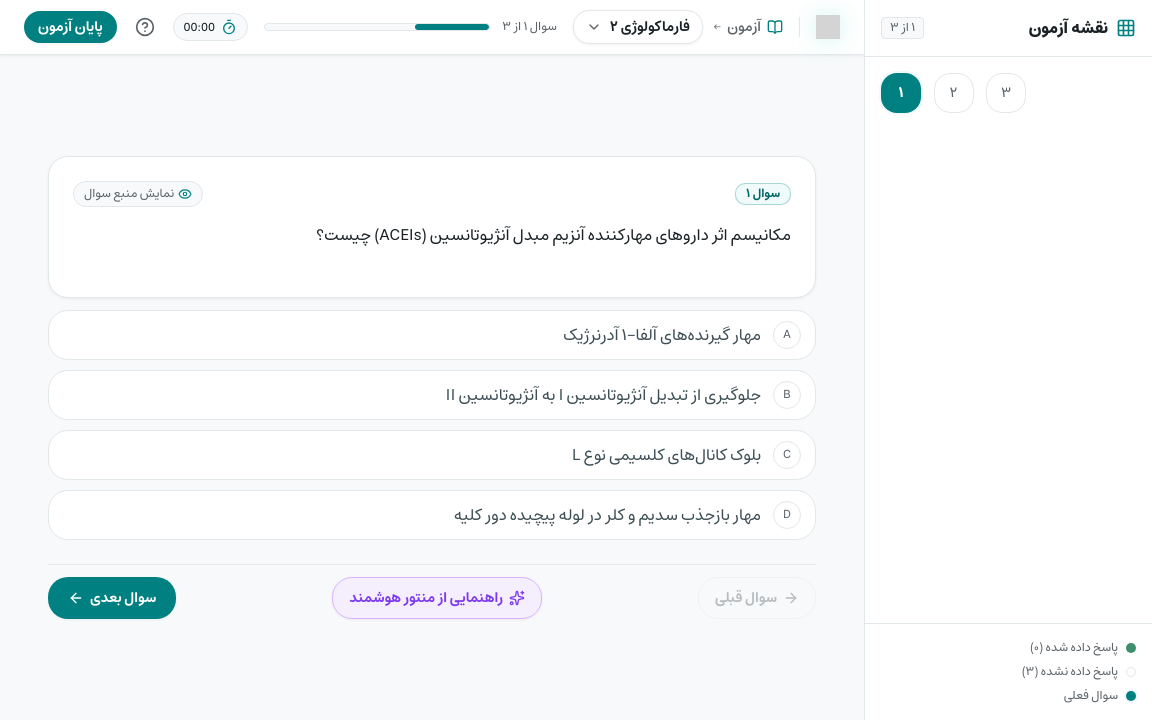
Test: Real Browser & Viewport Layout E2E Verification Suite › 4. Full Exam Lifecycle: Choice selection, Navigation, Timer, Submit Modal and Result Flow
The width and height of the screenshot is (1152, 720).
Check: the text "00:00" is shown, box [184,20,215,36]
Note: Select Option B on Question 1
Click the text "جلوگیری از تبدیل آنژیوتانسین I به آنژیوتانسین II" at (450, 395), box [445,381,761,409]
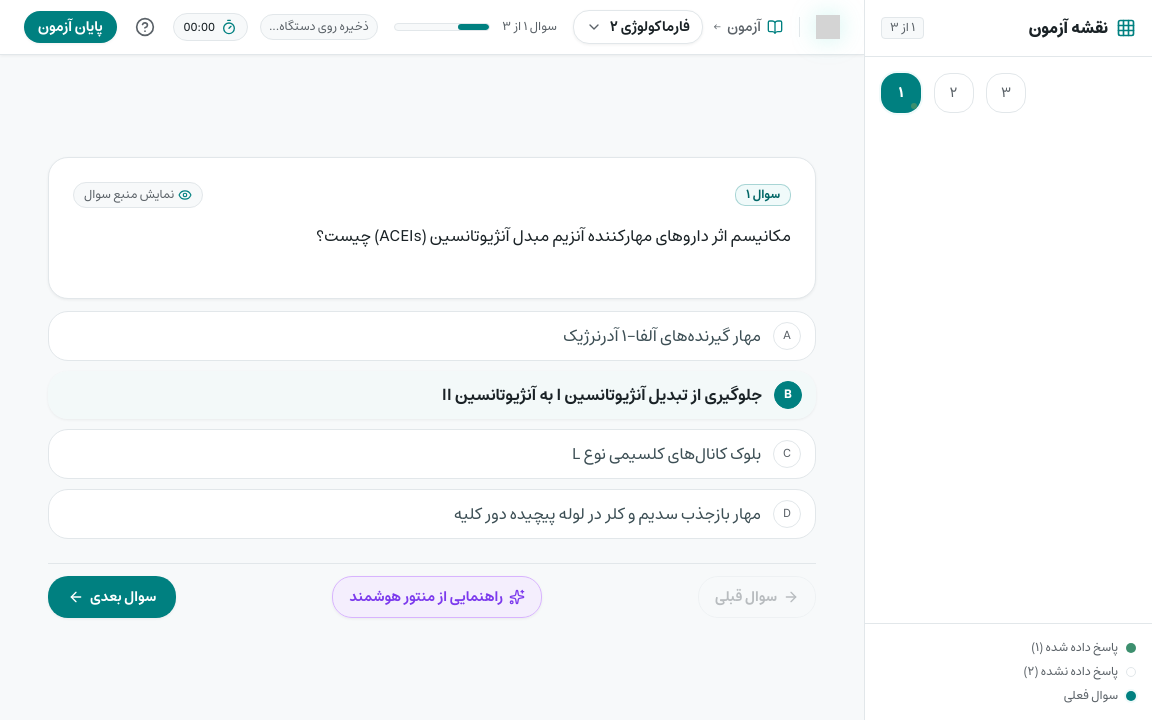
Note: Advance to Question 2
Click the button "سوال بعدی" at (112, 597), box [48,576,176,618]
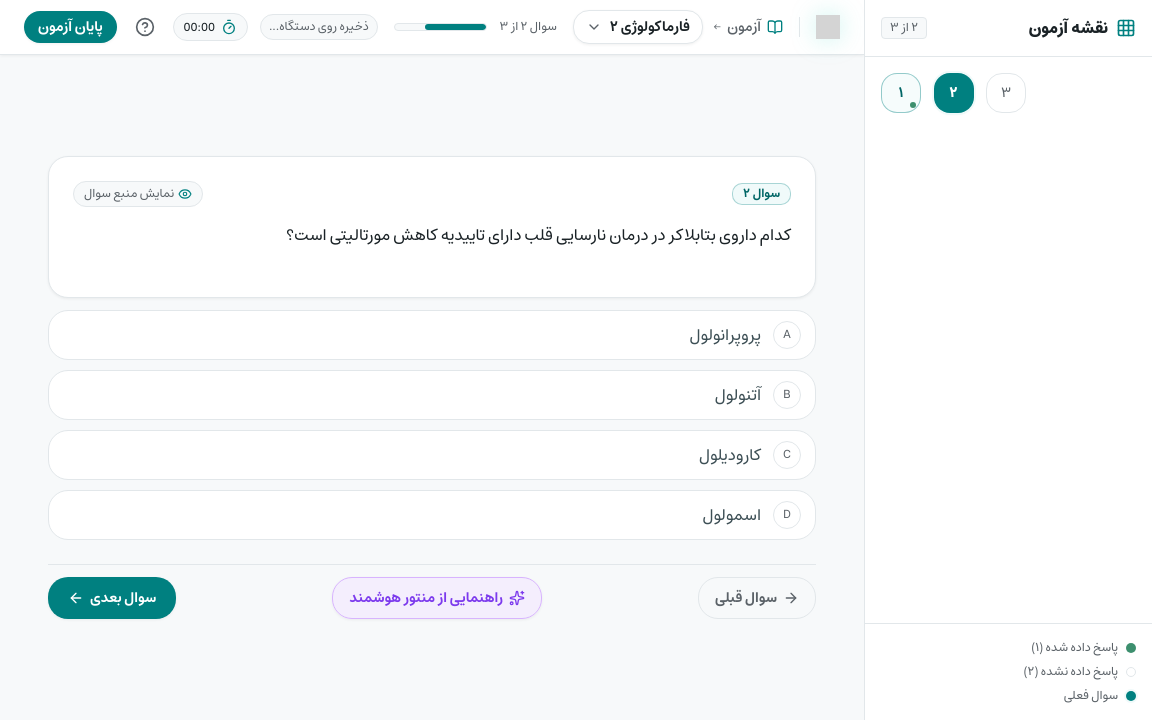
Check: the text "کدام داروی بتابلاکر در درمان نارسایی قلب دارای تاییدیه کاهش مورتالیتی است؟" is shown, box [286,221,791,249]
Note: Select Option C on Question 2
Click the text "کارودیلول" at (730, 455), box [699,441,761,469]
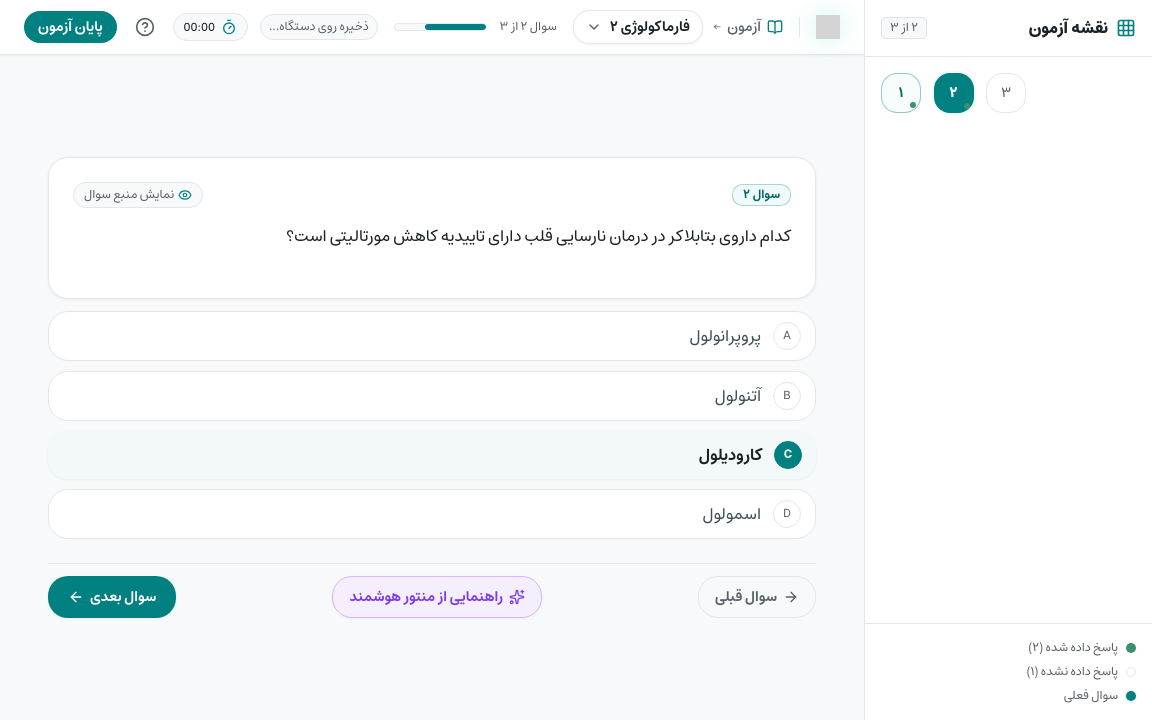
Note: Advance to Question 3 (Last Question)
Click the button "سوال بعدی" at (112, 597), box [48,576,176,618]
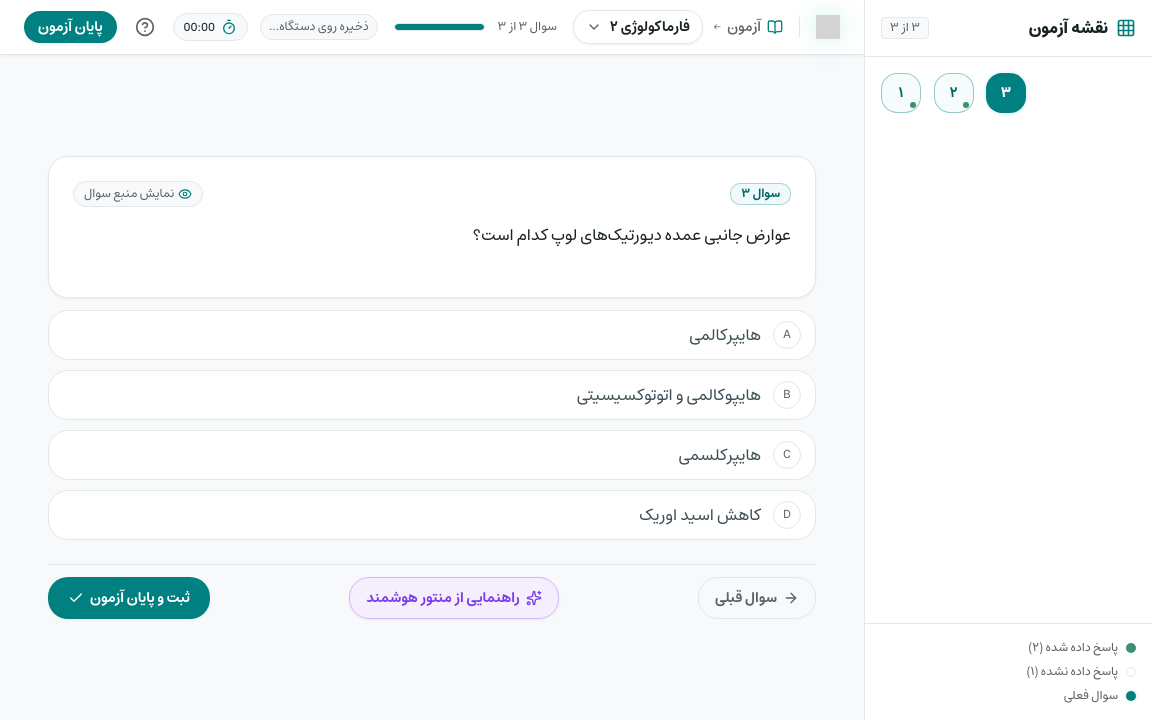
Check: the text "عوارض جانبی عمده دیورتیک‌های لوپ کدام است؟" is shown, box [473,221,791,249]
Check: the button "ثبت و پایان آزمون" is shown
Click the button "ثبت و پایان آزمون" at (129, 598), box [48,577,210,619]
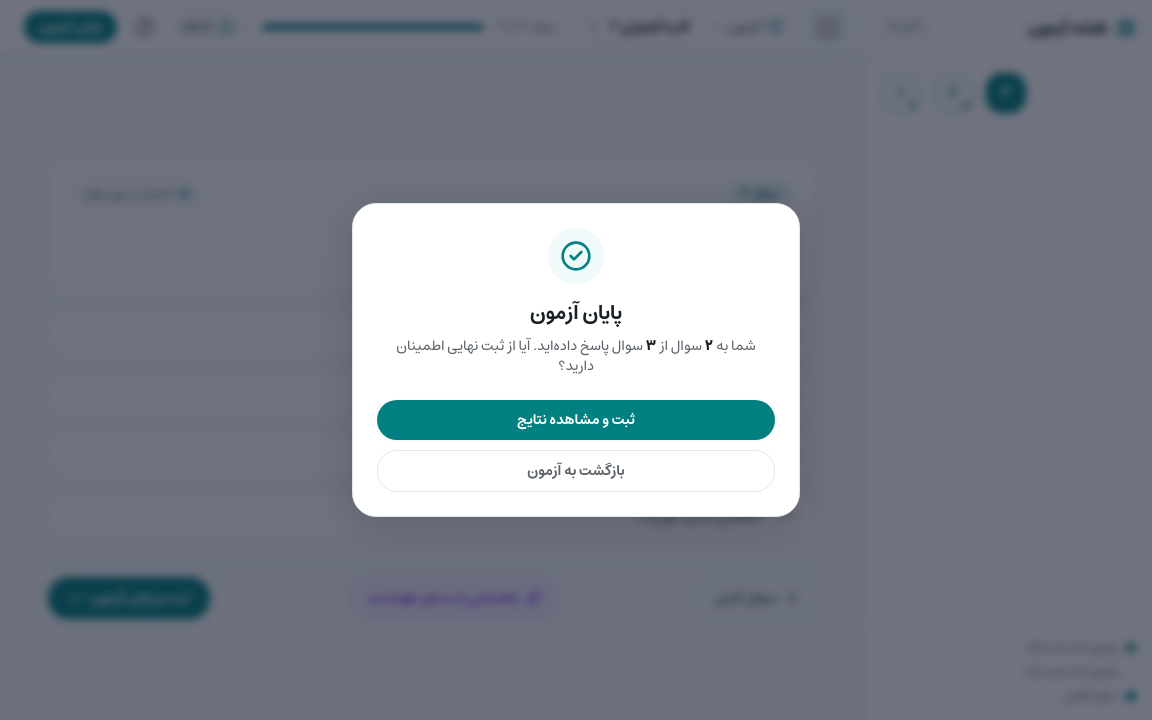
Check: the button "پایان آزمون" is shown, box [24,11,117,43]
Check: the text "ثبت و مشاهده نتایج" is shown, box [517,410,635,430]
